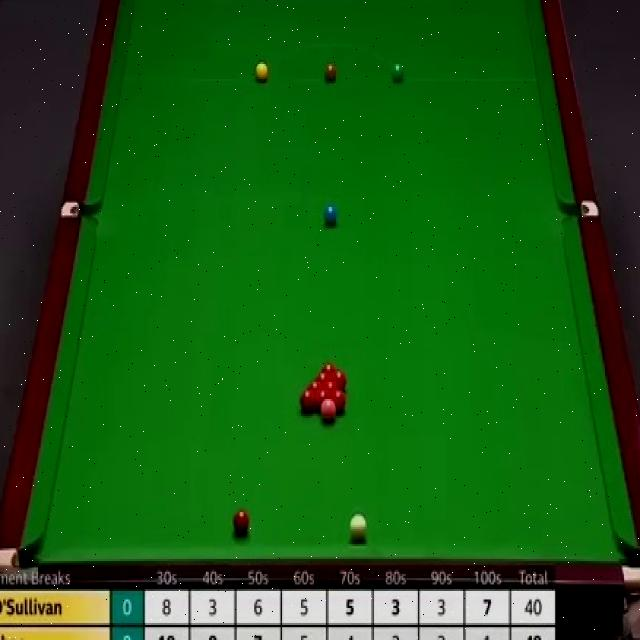blue-ball: (322, 202, 338, 228)
brown-ball: (324, 62, 338, 84)
green-ball: (392, 62, 406, 85)
pink-ball: (319, 397, 338, 422)
red-ball: (232, 507, 251, 537), (299, 389, 317, 415), (330, 388, 346, 414), (331, 370, 348, 390), (316, 389, 330, 412), (308, 380, 324, 394), (315, 371, 333, 382), (320, 361, 338, 372), (323, 381, 338, 390)
white-ball: (348, 512, 368, 541)
yellow-ball: (254, 61, 268, 84)
